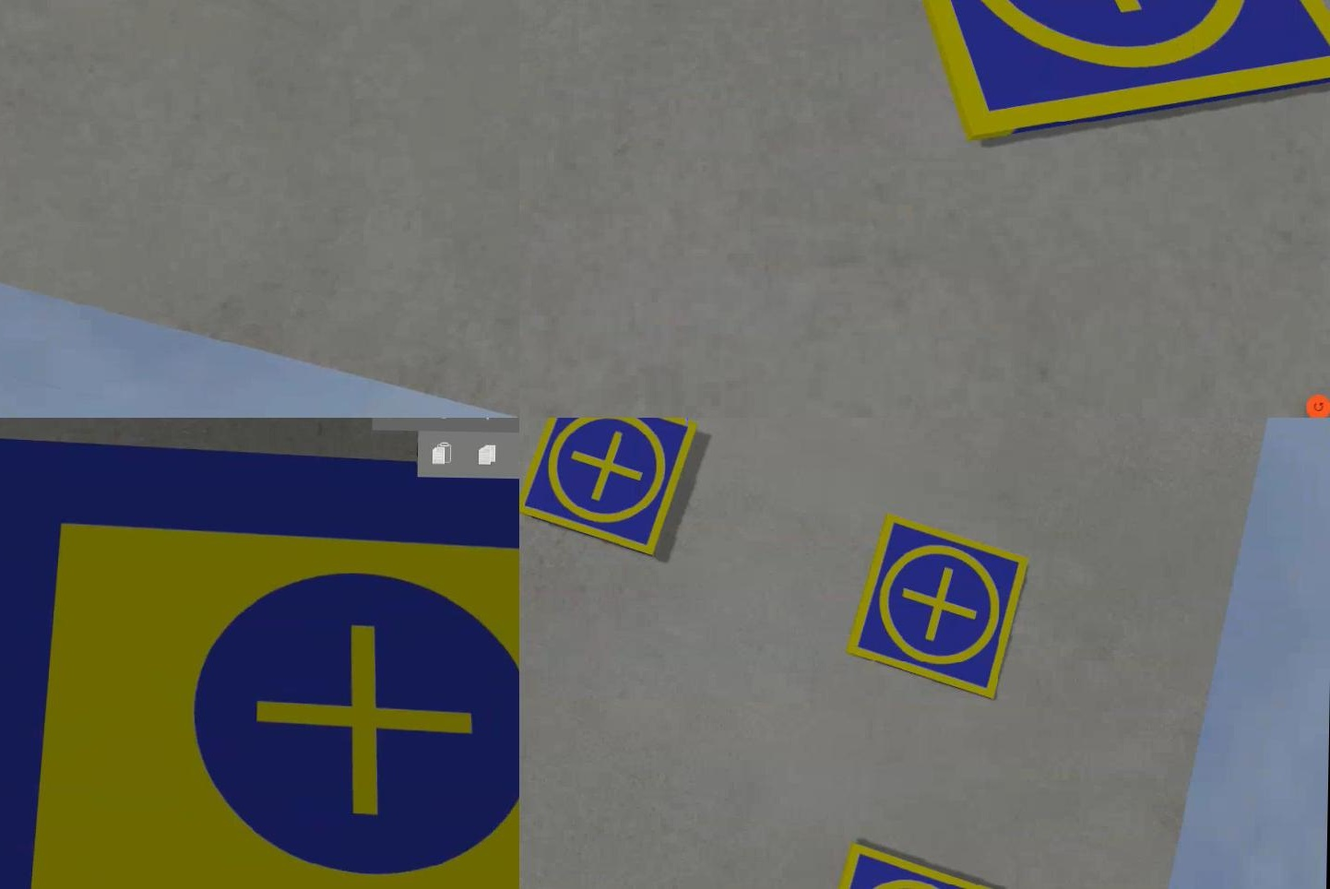large_base: (0, 435, 517, 889)
small_base: (856, 1, 1328, 158), (845, 516, 1026, 702), (517, 419, 695, 553), (806, 842, 1003, 889)
